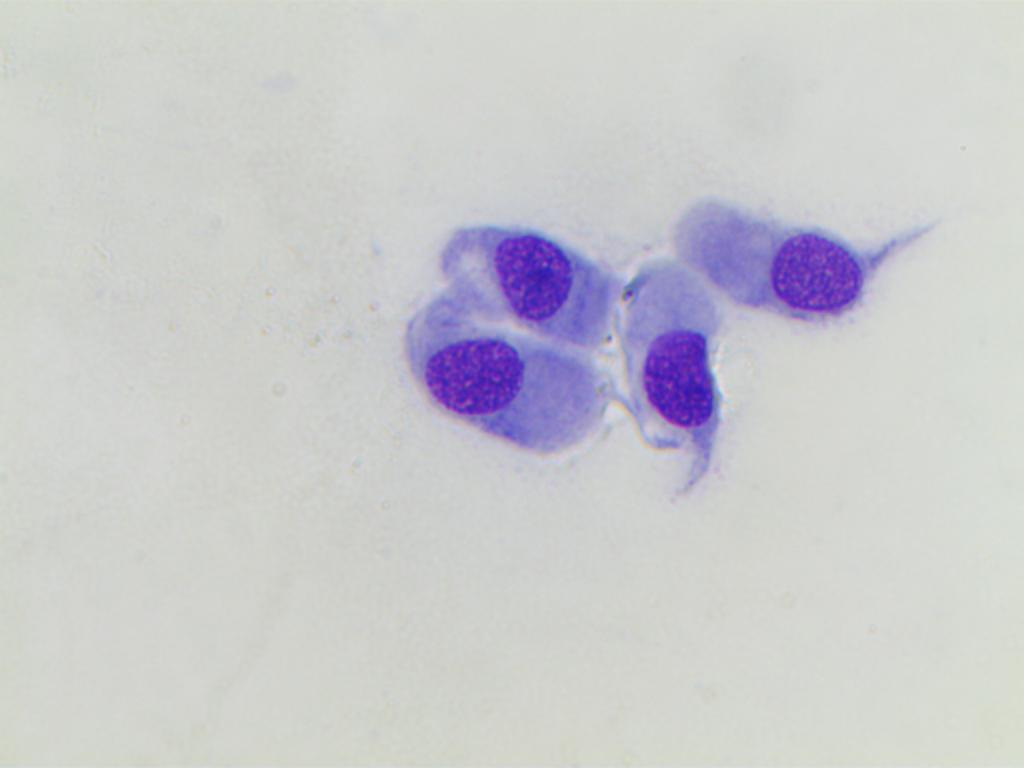epithelial: (614, 320, 729, 458), (457, 223, 593, 326), (399, 326, 535, 429), (728, 224, 867, 324)
